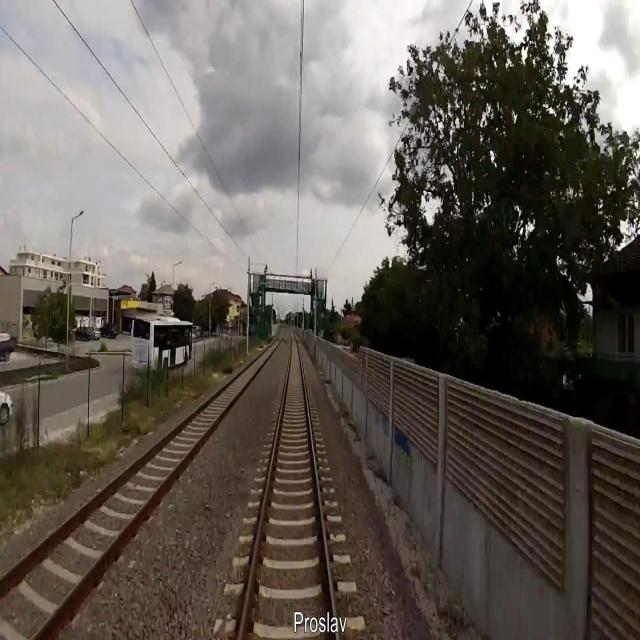rail-track: (0, 331, 283, 639), (242, 335, 335, 639)
